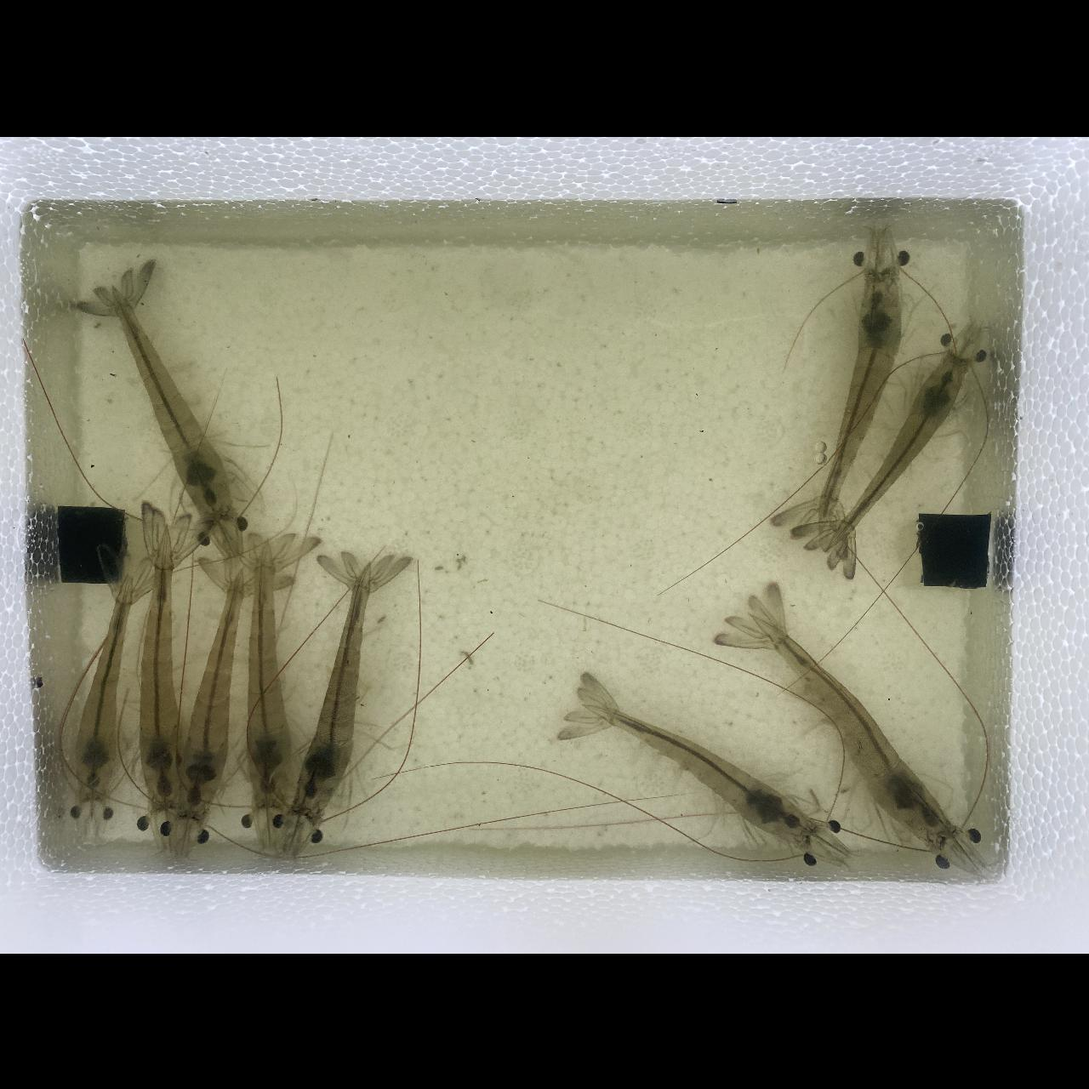box: (56, 505, 126, 582), (921, 512, 992, 587)
top_shrimp: (757, 609, 951, 842), (596, 703, 815, 841), (117, 294, 231, 521), (834, 356, 966, 539), (820, 277, 902, 526), (298, 572, 369, 808), (181, 565, 244, 815), (75, 579, 140, 793), (142, 524, 185, 802), (247, 543, 289, 807)
